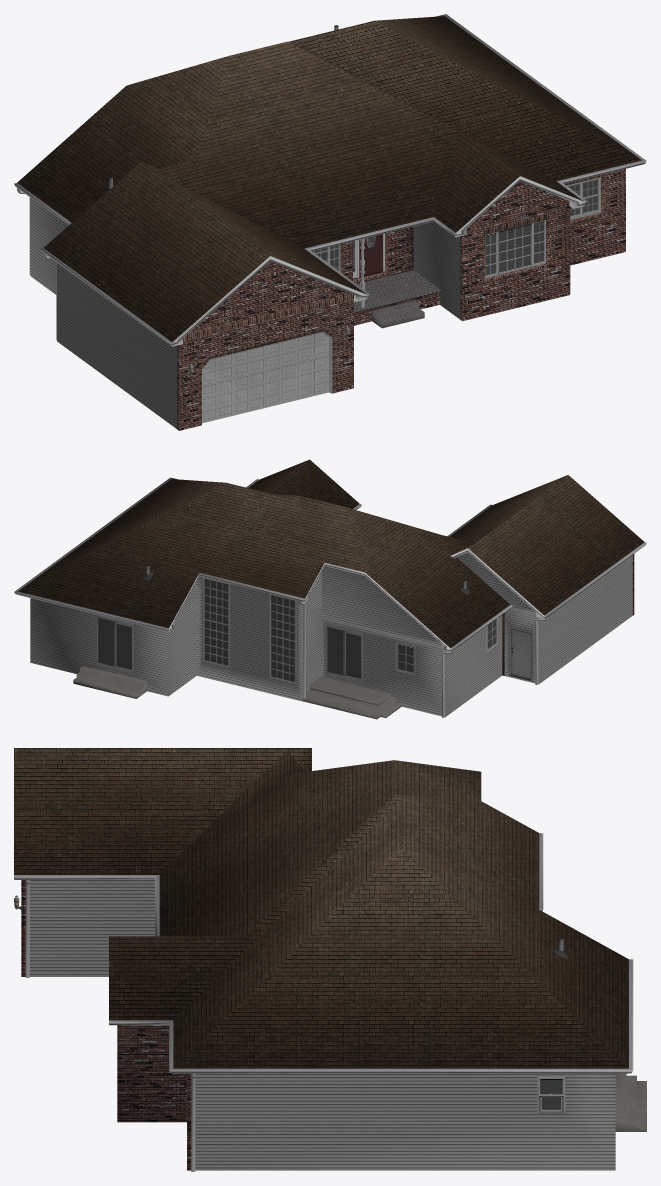
3 views of the same model, one above another, from view 1: azimuth 30°, elevation 25°; view 2: azimuth 150°, elevation 25°; view 3: azimuth 270°, elevation 25° (orthographic). The views are drawn at different scales.
Visible parts, largest first — view 1: polySurface371_phong4_0; view 2: polySurface371_phong4_0; view 3: polySurface371_phong4_0.
Boxes of the visible parts, <box> form: polySurface371_phong4_0: <box>14,14,646,430</box>; polySurface371_phong4_0: <box>14,459,646,719</box>; polySurface371_phong4_0: <box>14,748,646,1171</box>.
Bounding box in the file's own units: 1978 × 713 × 1723.
1 material, 1 textured.
